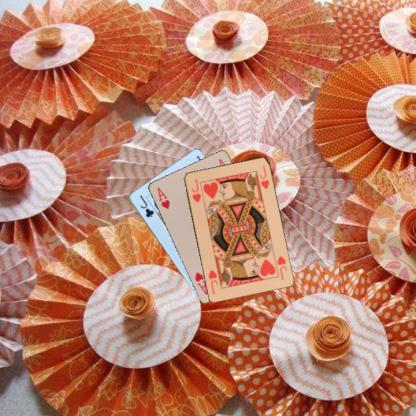Ah: (154, 185, 171, 210)
Jc: (136, 192, 155, 218)
Jh: (274, 252, 288, 281), (189, 176, 202, 204)
